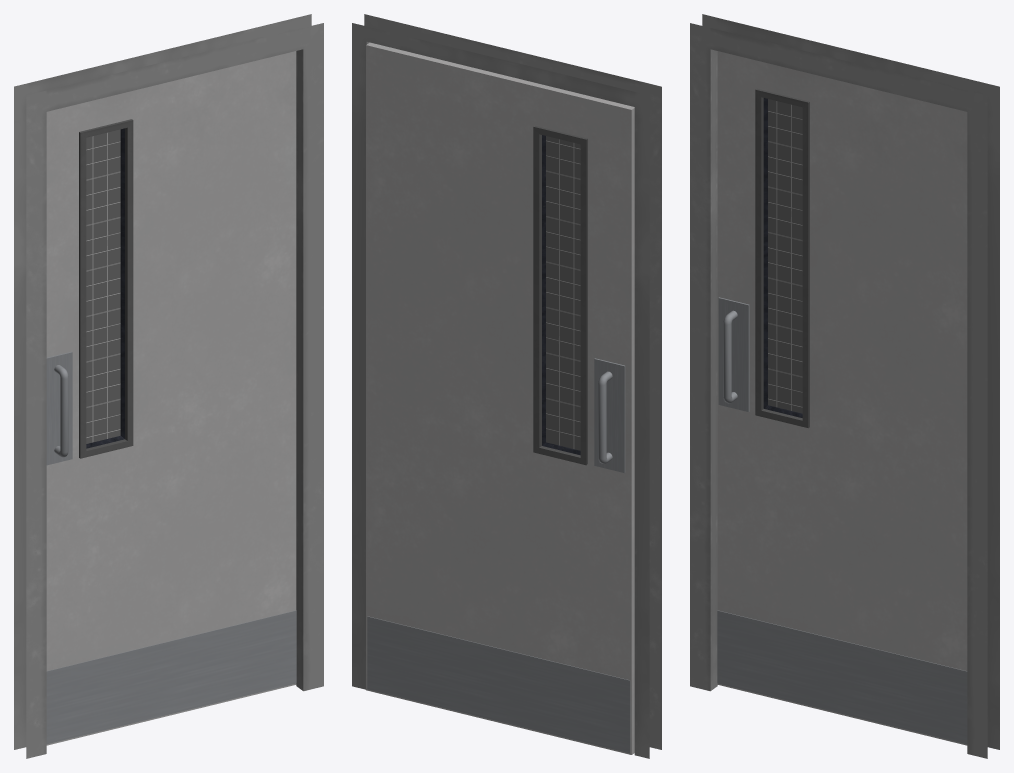
Rendered from DoorD.fbx.
The picture shows the model from 3 angles, left to right: view 1: azimuth 30°, elevation 25°; view 2: azimuth 150°, elevation 25°; view 3: azimuth 330°, elevation 25°; orthographic projection.
Visible parts, largest first — view 1: Door1, Frame1, Glass2; view 2: Door1, Frame1, Glass2; view 3: Door1, Frame1, Glass2.
Part boxes in pixels (box(x1,y1,x2,y2)): Door1: box(46, 51, 296, 745); Frame1: box(14, 14, 323, 758); Glass2: box(86, 129, 120, 443); Door1: box(366, 42, 634, 754); Frame1: box(352, 14, 661, 758); Glass2: box(546, 136, 580, 450); Door1: box(717, 51, 967, 745); Frame1: box(690, 14, 999, 758); Glass2: box(768, 99, 802, 413).
Bounding box in the file's own units: 102 × 217 × 15.5.
